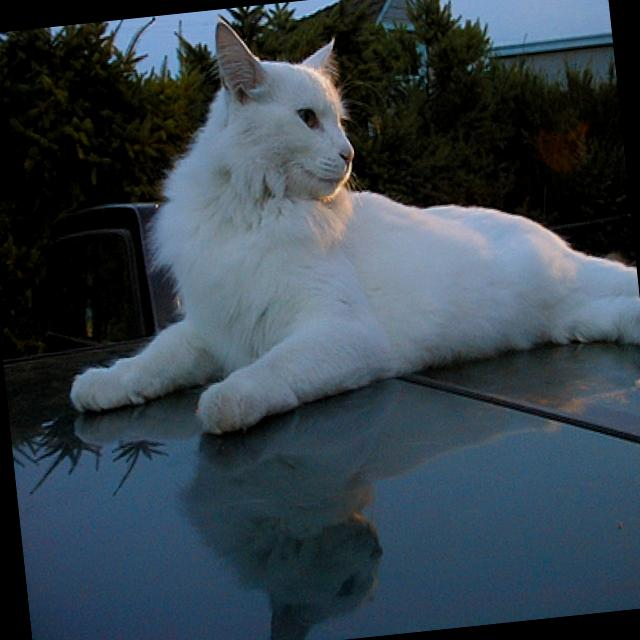Vehicle: (0, 276, 640, 640), (28, 201, 180, 354)
